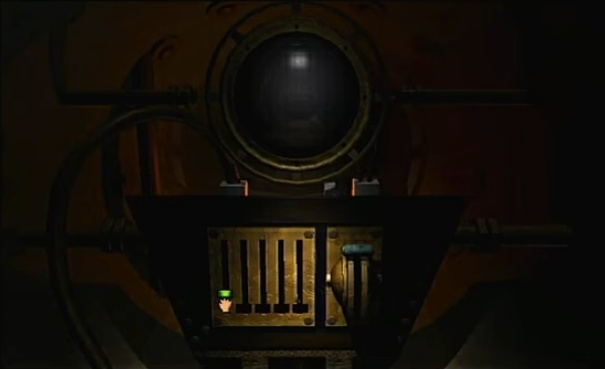Hold: (216, 295, 236, 314)
